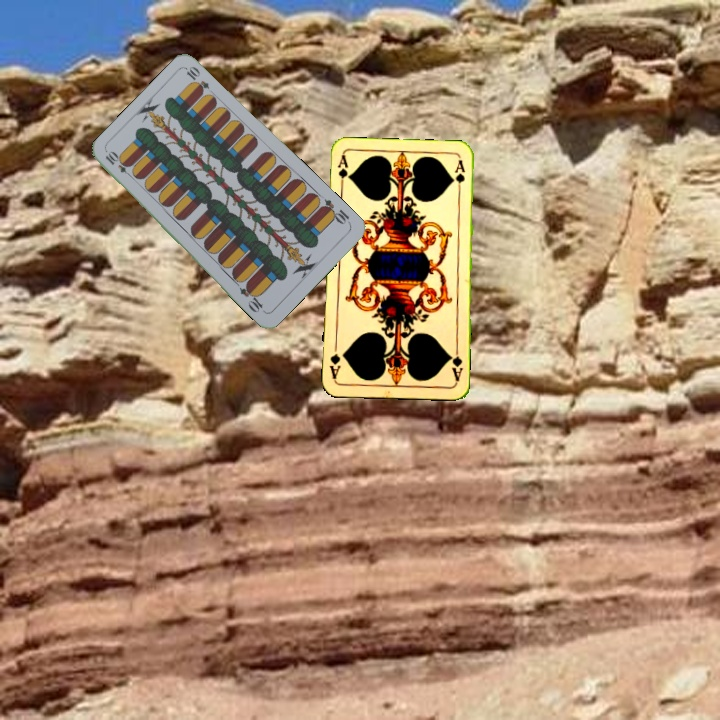E10: (101, 148, 136, 181), (317, 195, 353, 227)
GA: (446, 344, 465, 384), (333, 152, 350, 192)
